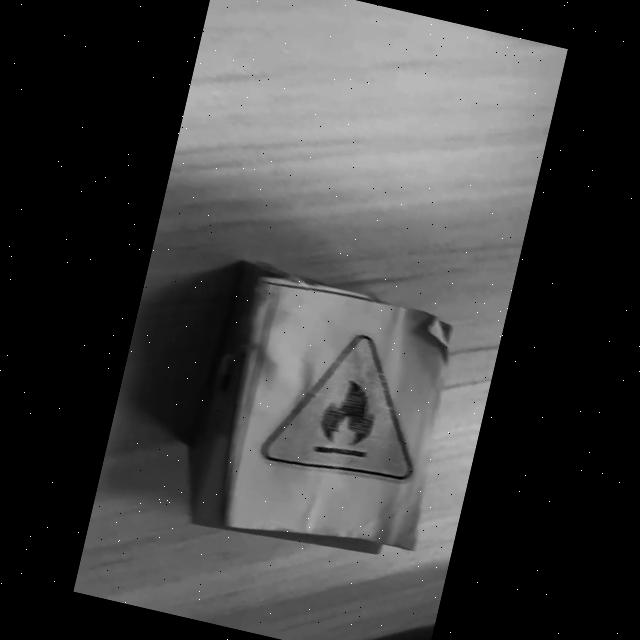Fire: (260, 333, 411, 481)
